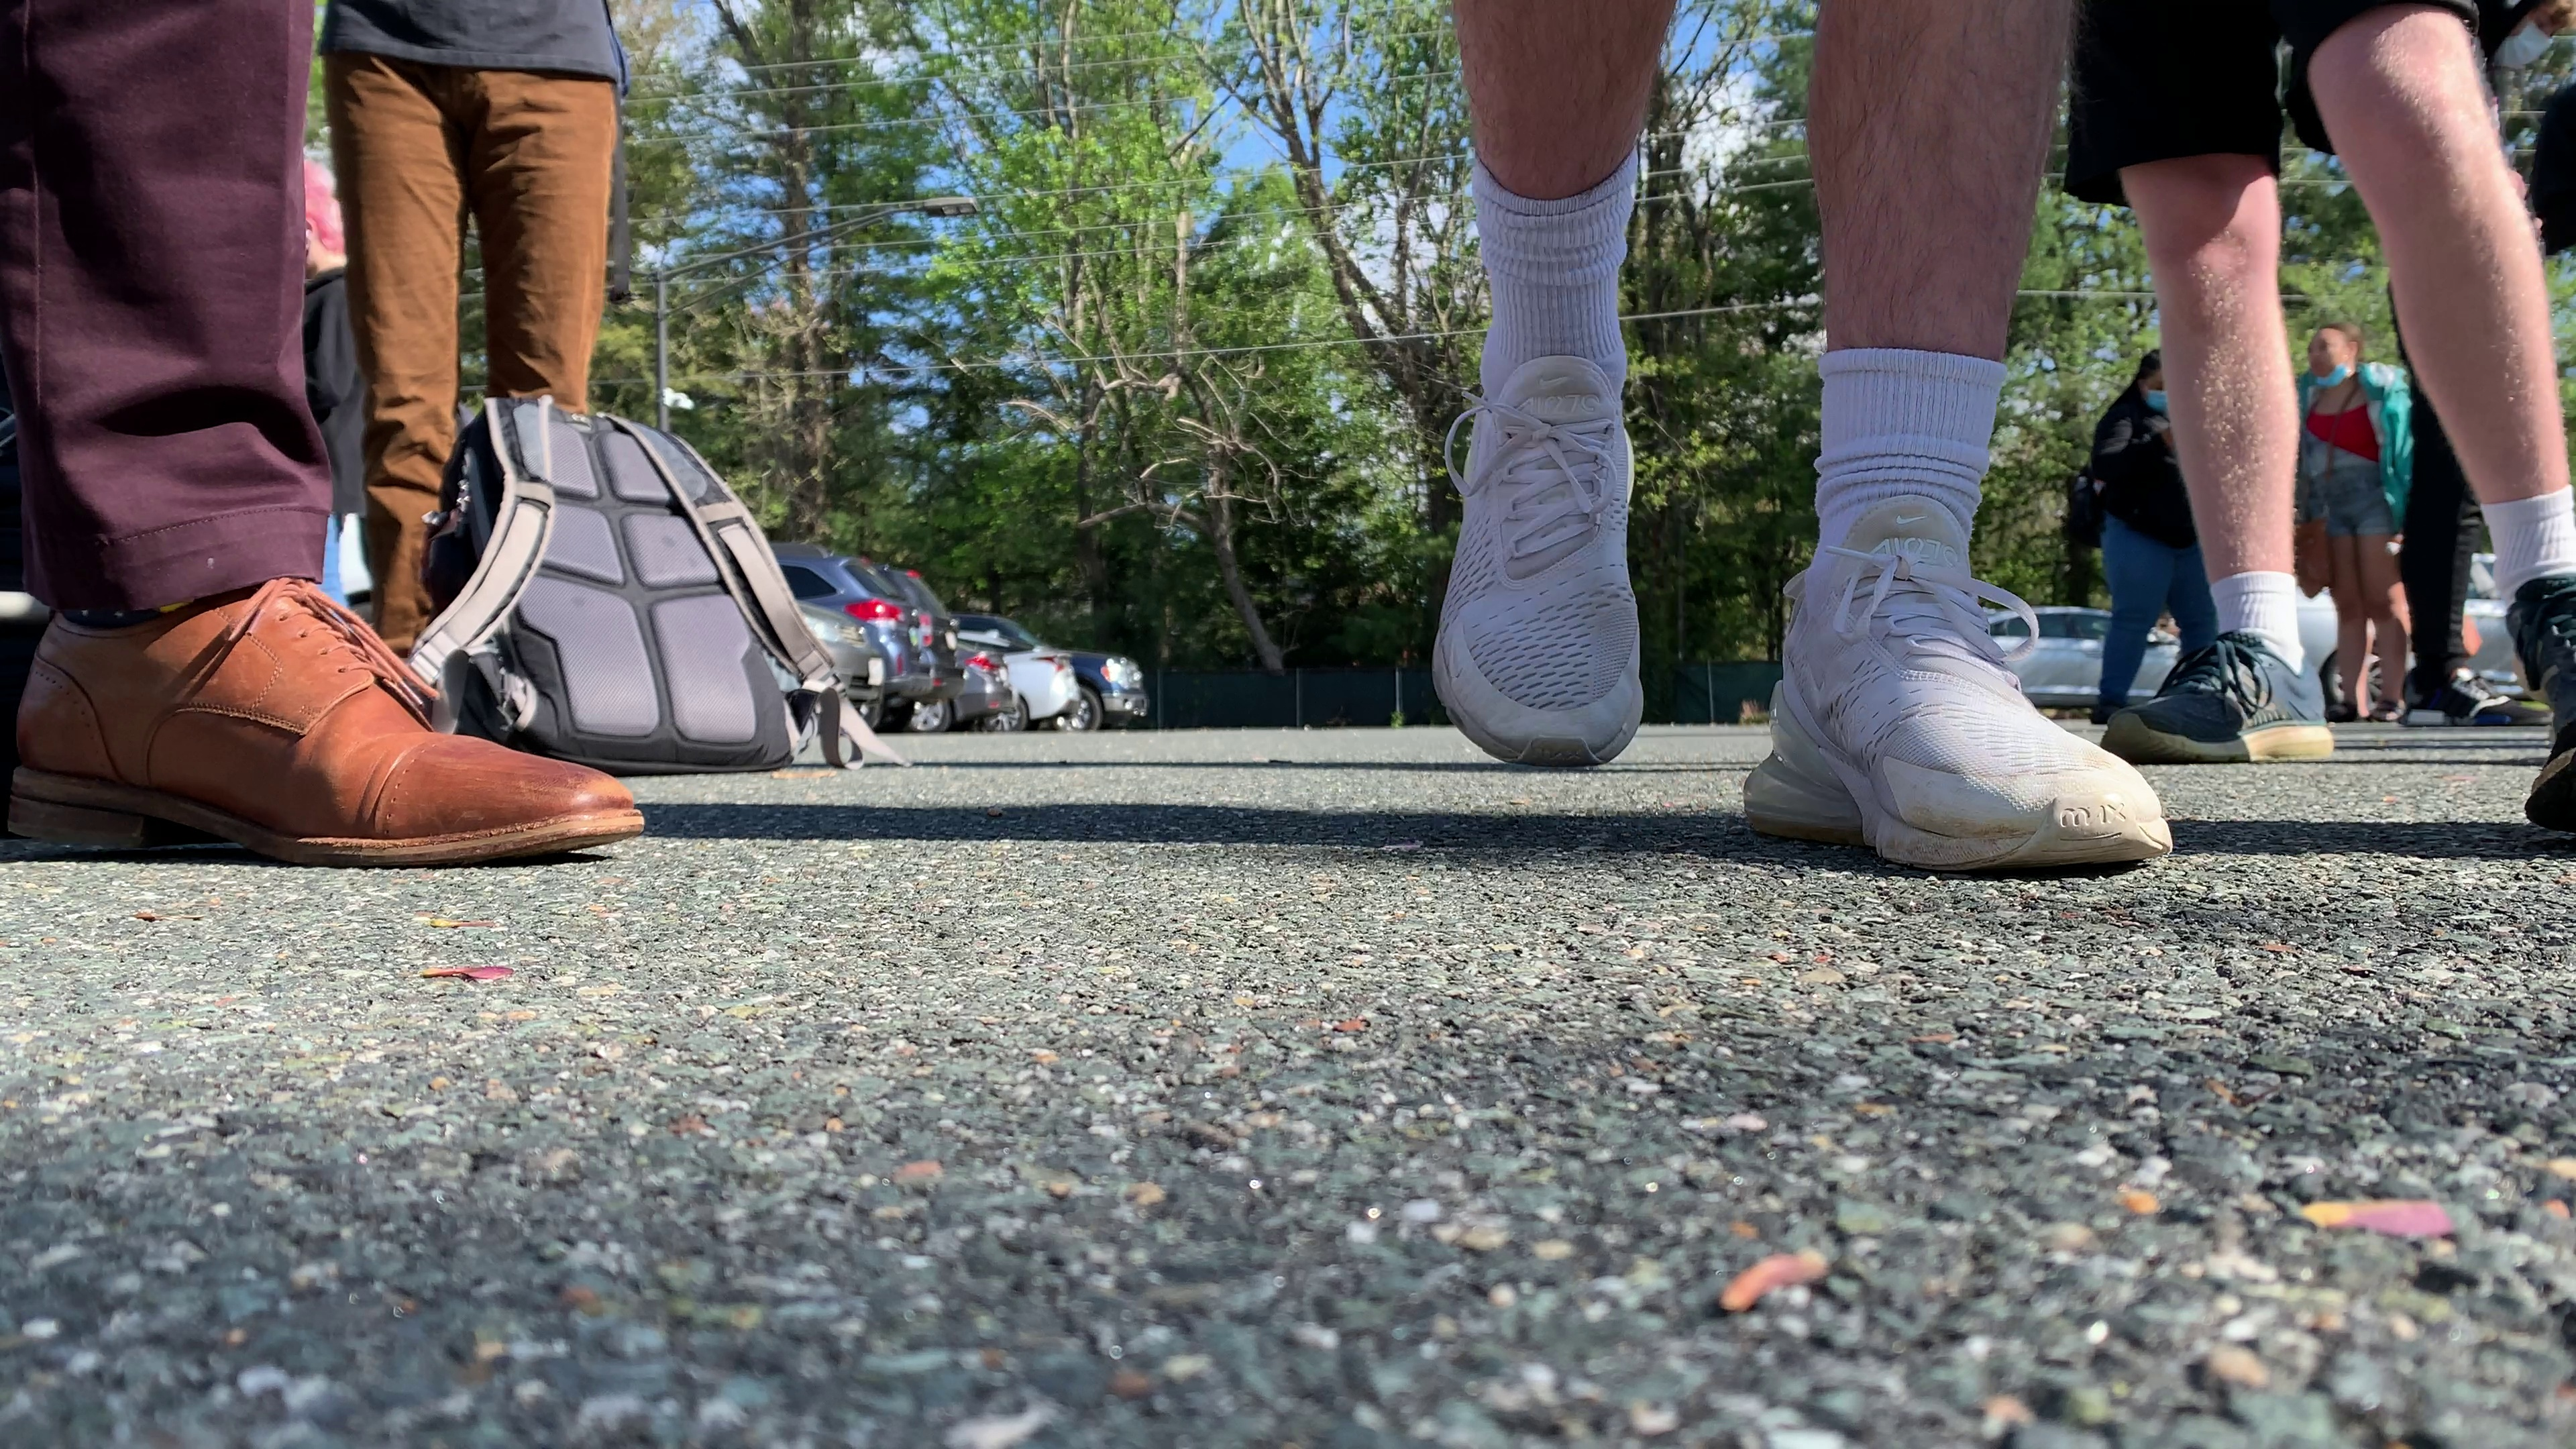shoe: (0, 575, 648, 860), (1748, 495, 2174, 870), (1433, 354, 1645, 761), (2098, 625, 2337, 759)
